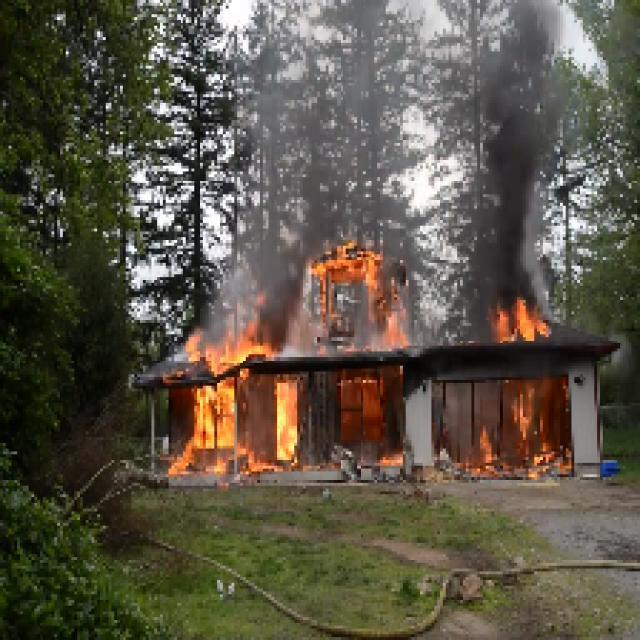Fire: (192, 346, 296, 466), (310, 254, 380, 276), (502, 308, 552, 338)
Smoke: (494, 57, 546, 292)
